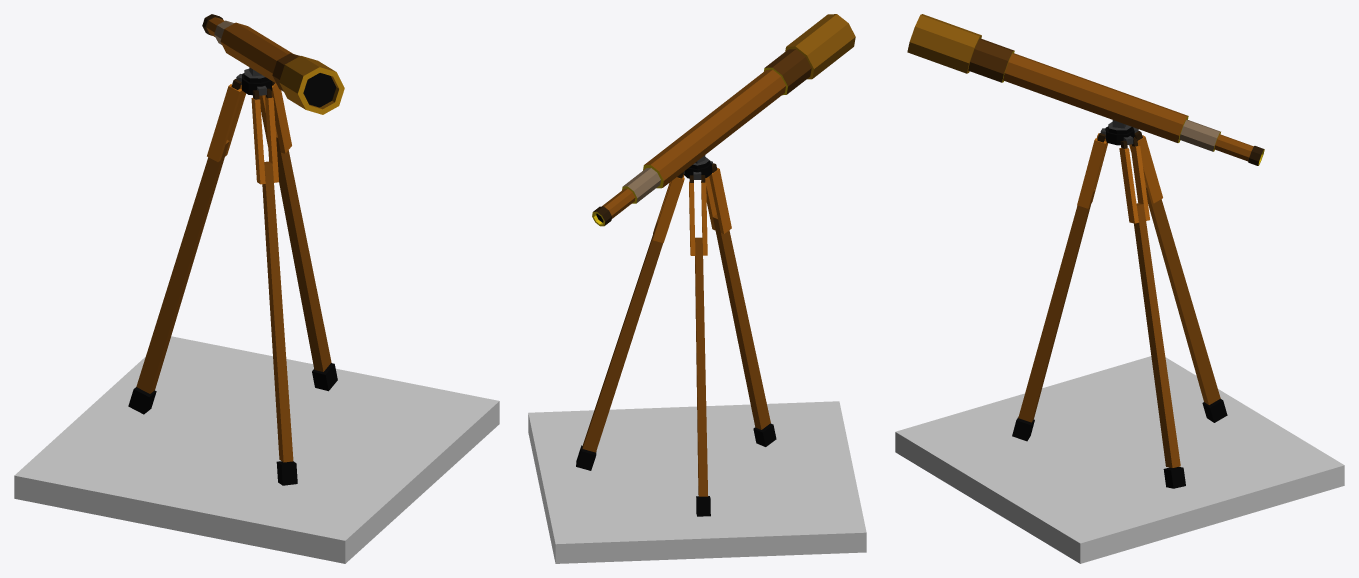
Rendered from Luneta.gltf.
The picture shows the model from 3 angles, left to right: view 1: azimuth 30°, elevation 25°; view 2: azimuth 150°, elevation 25°; view 3: azimuth 270°, elevation 25°; orthographic projection. The views are drawn at different scales.
Visible parts, largest first — view 1: Luneta; view 2: Luneta; view 3: Luneta.
Boxes of the visible parts, bbox=[...] form: Luneta: bbox=[14, 14, 499, 563]; Luneta: bbox=[528, 14, 866, 563]; Luneta: bbox=[895, 14, 1344, 563].
Bounding box in the file's own units: 1.69 × 1.79 × 1.69.
1 material, 1 textured.
